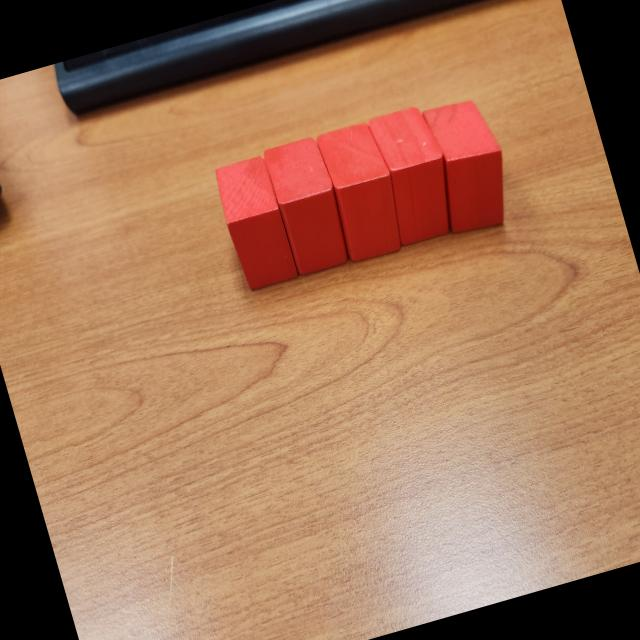red: (416, 92, 520, 238), (365, 101, 465, 248), (314, 118, 412, 266), (260, 128, 355, 278), (210, 152, 300, 294)
